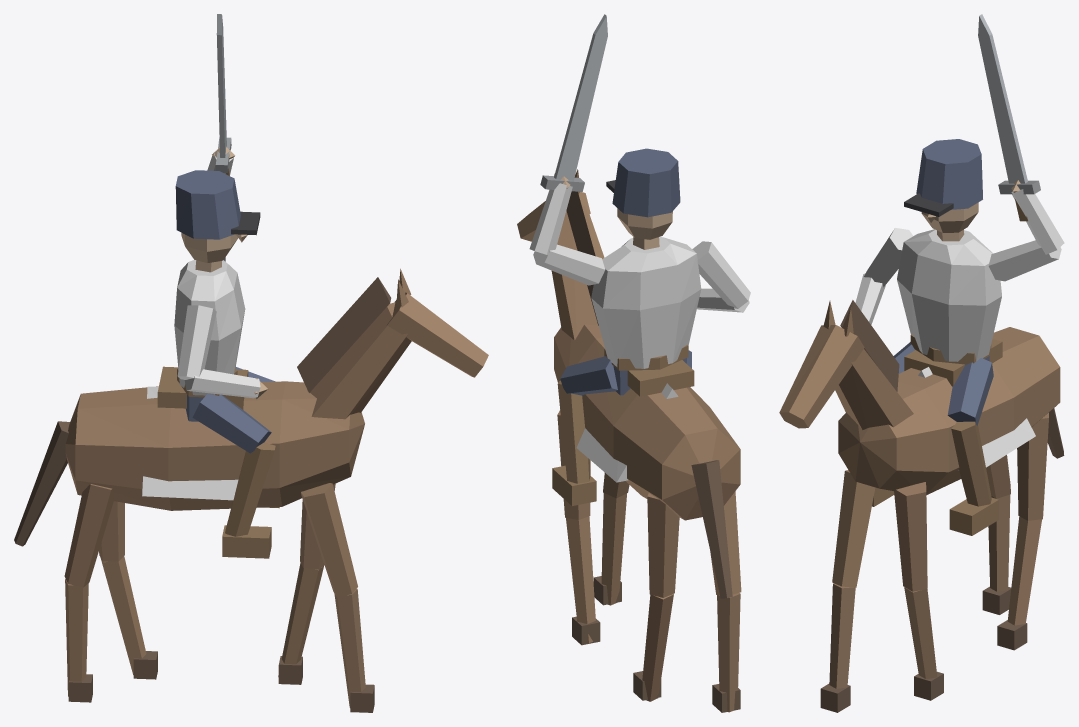
The model's file is cavalry.glb.
3 views of the same model, side by side, from view 1: azimuth 30°, elevation 25°; view 2: azimuth 150°, elevation 25°; view 3: azimuth 270°, elevation 25° (orthographic).
Visible parts, largest first — view 1: LOD0; view 2: LOD0; view 3: LOD0.
Part boxes in pixels (bbox=[...]): LOD0: bbox=[14, 14, 488, 712]; LOD0: bbox=[517, 14, 750, 712]; LOD0: bbox=[779, 14, 1064, 712].
Size of what is drawn, in the model's own units: 0.9264 by 1.7 by 0.667.
